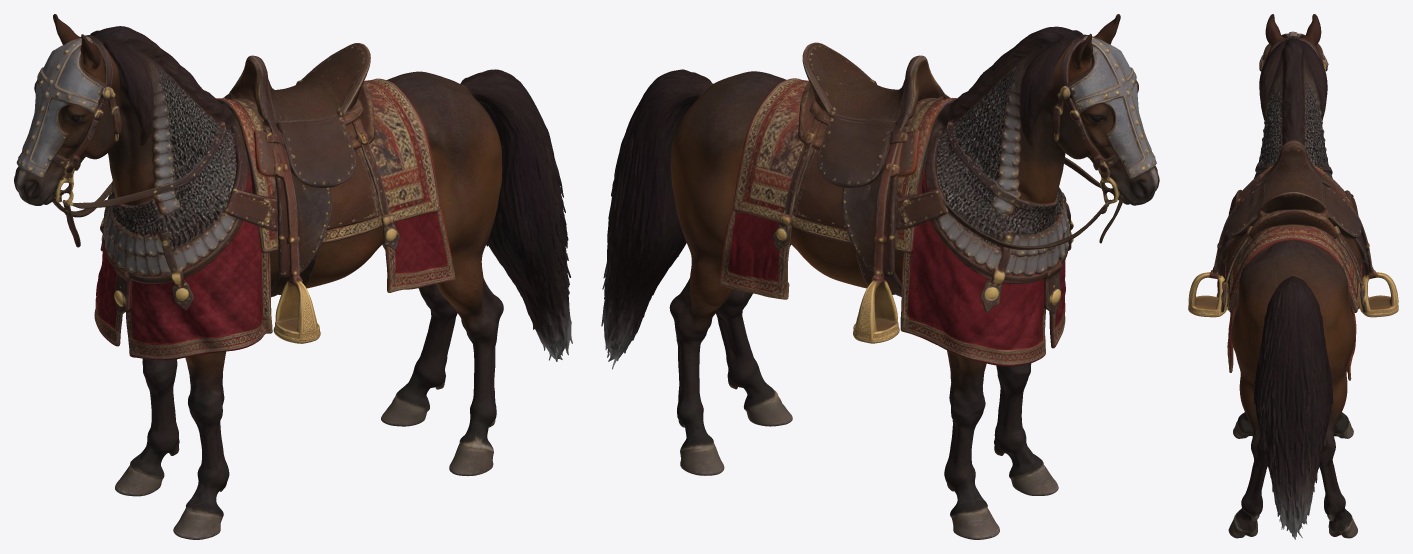
The model's file is osmanli-savas-ati-zirhli-1550-1600-tripo-v1.glb.
The picture shows the model from 3 angles, left to right: view 1: azimuth 30°, elevation 25°; view 2: azimuth 150°, elevation 25°; view 3: azimuth 270°, elevation 25°; orthographic projection. The views are drawn at different scales.
Visible parts, largest first — view 1: tripo_node_46cd0798-3bb5-4423-9df0-592156405036; view 2: tripo_node_46cd0798-3bb5-4423-9df0-592156405036; view 3: tripo_node_46cd0798-3bb5-4423-9df0-592156405036.
Boxes of the visible parts, x1,y1,x2,y2 form: tripo_node_46cd0798-3bb5-4423-9df0-592156405036: [14, 14, 572, 539]; tripo_node_46cd0798-3bb5-4423-9df0-592156405036: [601, 14, 1159, 539]; tripo_node_46cd0798-3bb5-4423-9df0-592156405036: [1188, 14, 1398, 539].
Bounding box in the file's own units: 1 × 0.8854 × 0.4408.
1 material, 1 textured.
